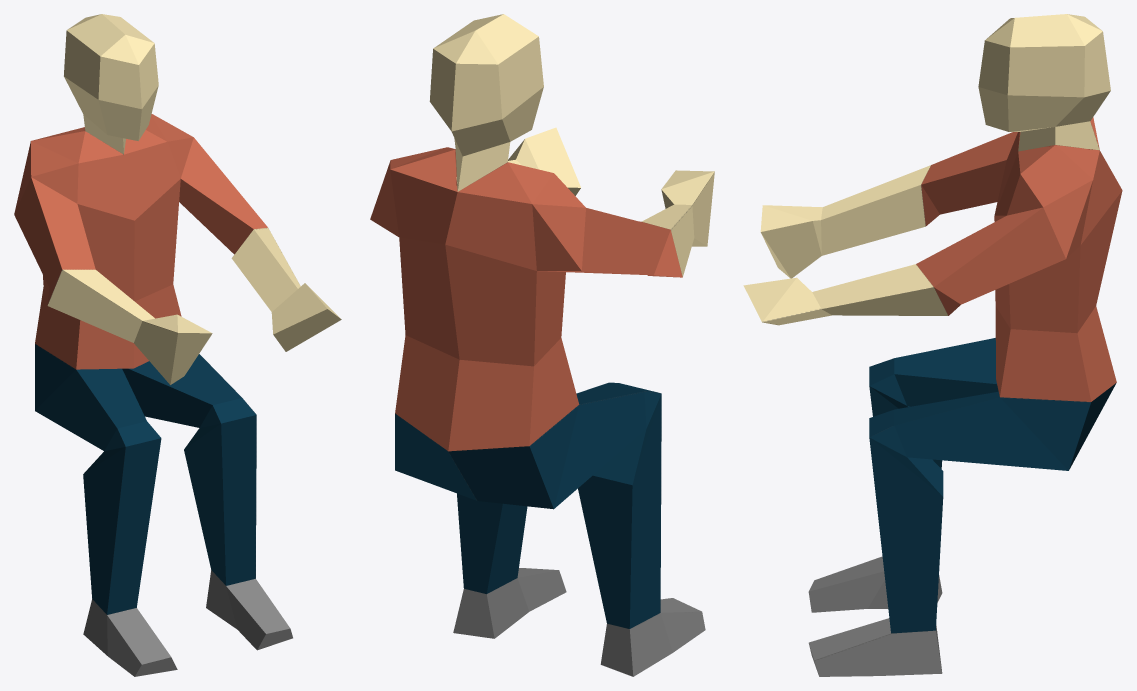
File: human_low_table.obj
3 views of the same model, side by side, from view 1: azimuth 30°, elevation 25°; view 2: azimuth 150°, elevation 25°; view 3: azimuth 270°, elevation 25° (orthographic). The views are drawn at different scales.
Parts seen in each view (by area): view 1: HumanLow_Cube; view 2: HumanLow_Cube; view 3: HumanLow_Cube.
Part boxes in pixels (bbox=[...]): HumanLow_Cube: bbox=[14, 14, 341, 676]; HumanLow_Cube: bbox=[370, 14, 714, 676]; HumanLow_Cube: bbox=[743, 14, 1122, 676].
Size of the model in its own units: 1.28 by 3.13 by 1.73.
